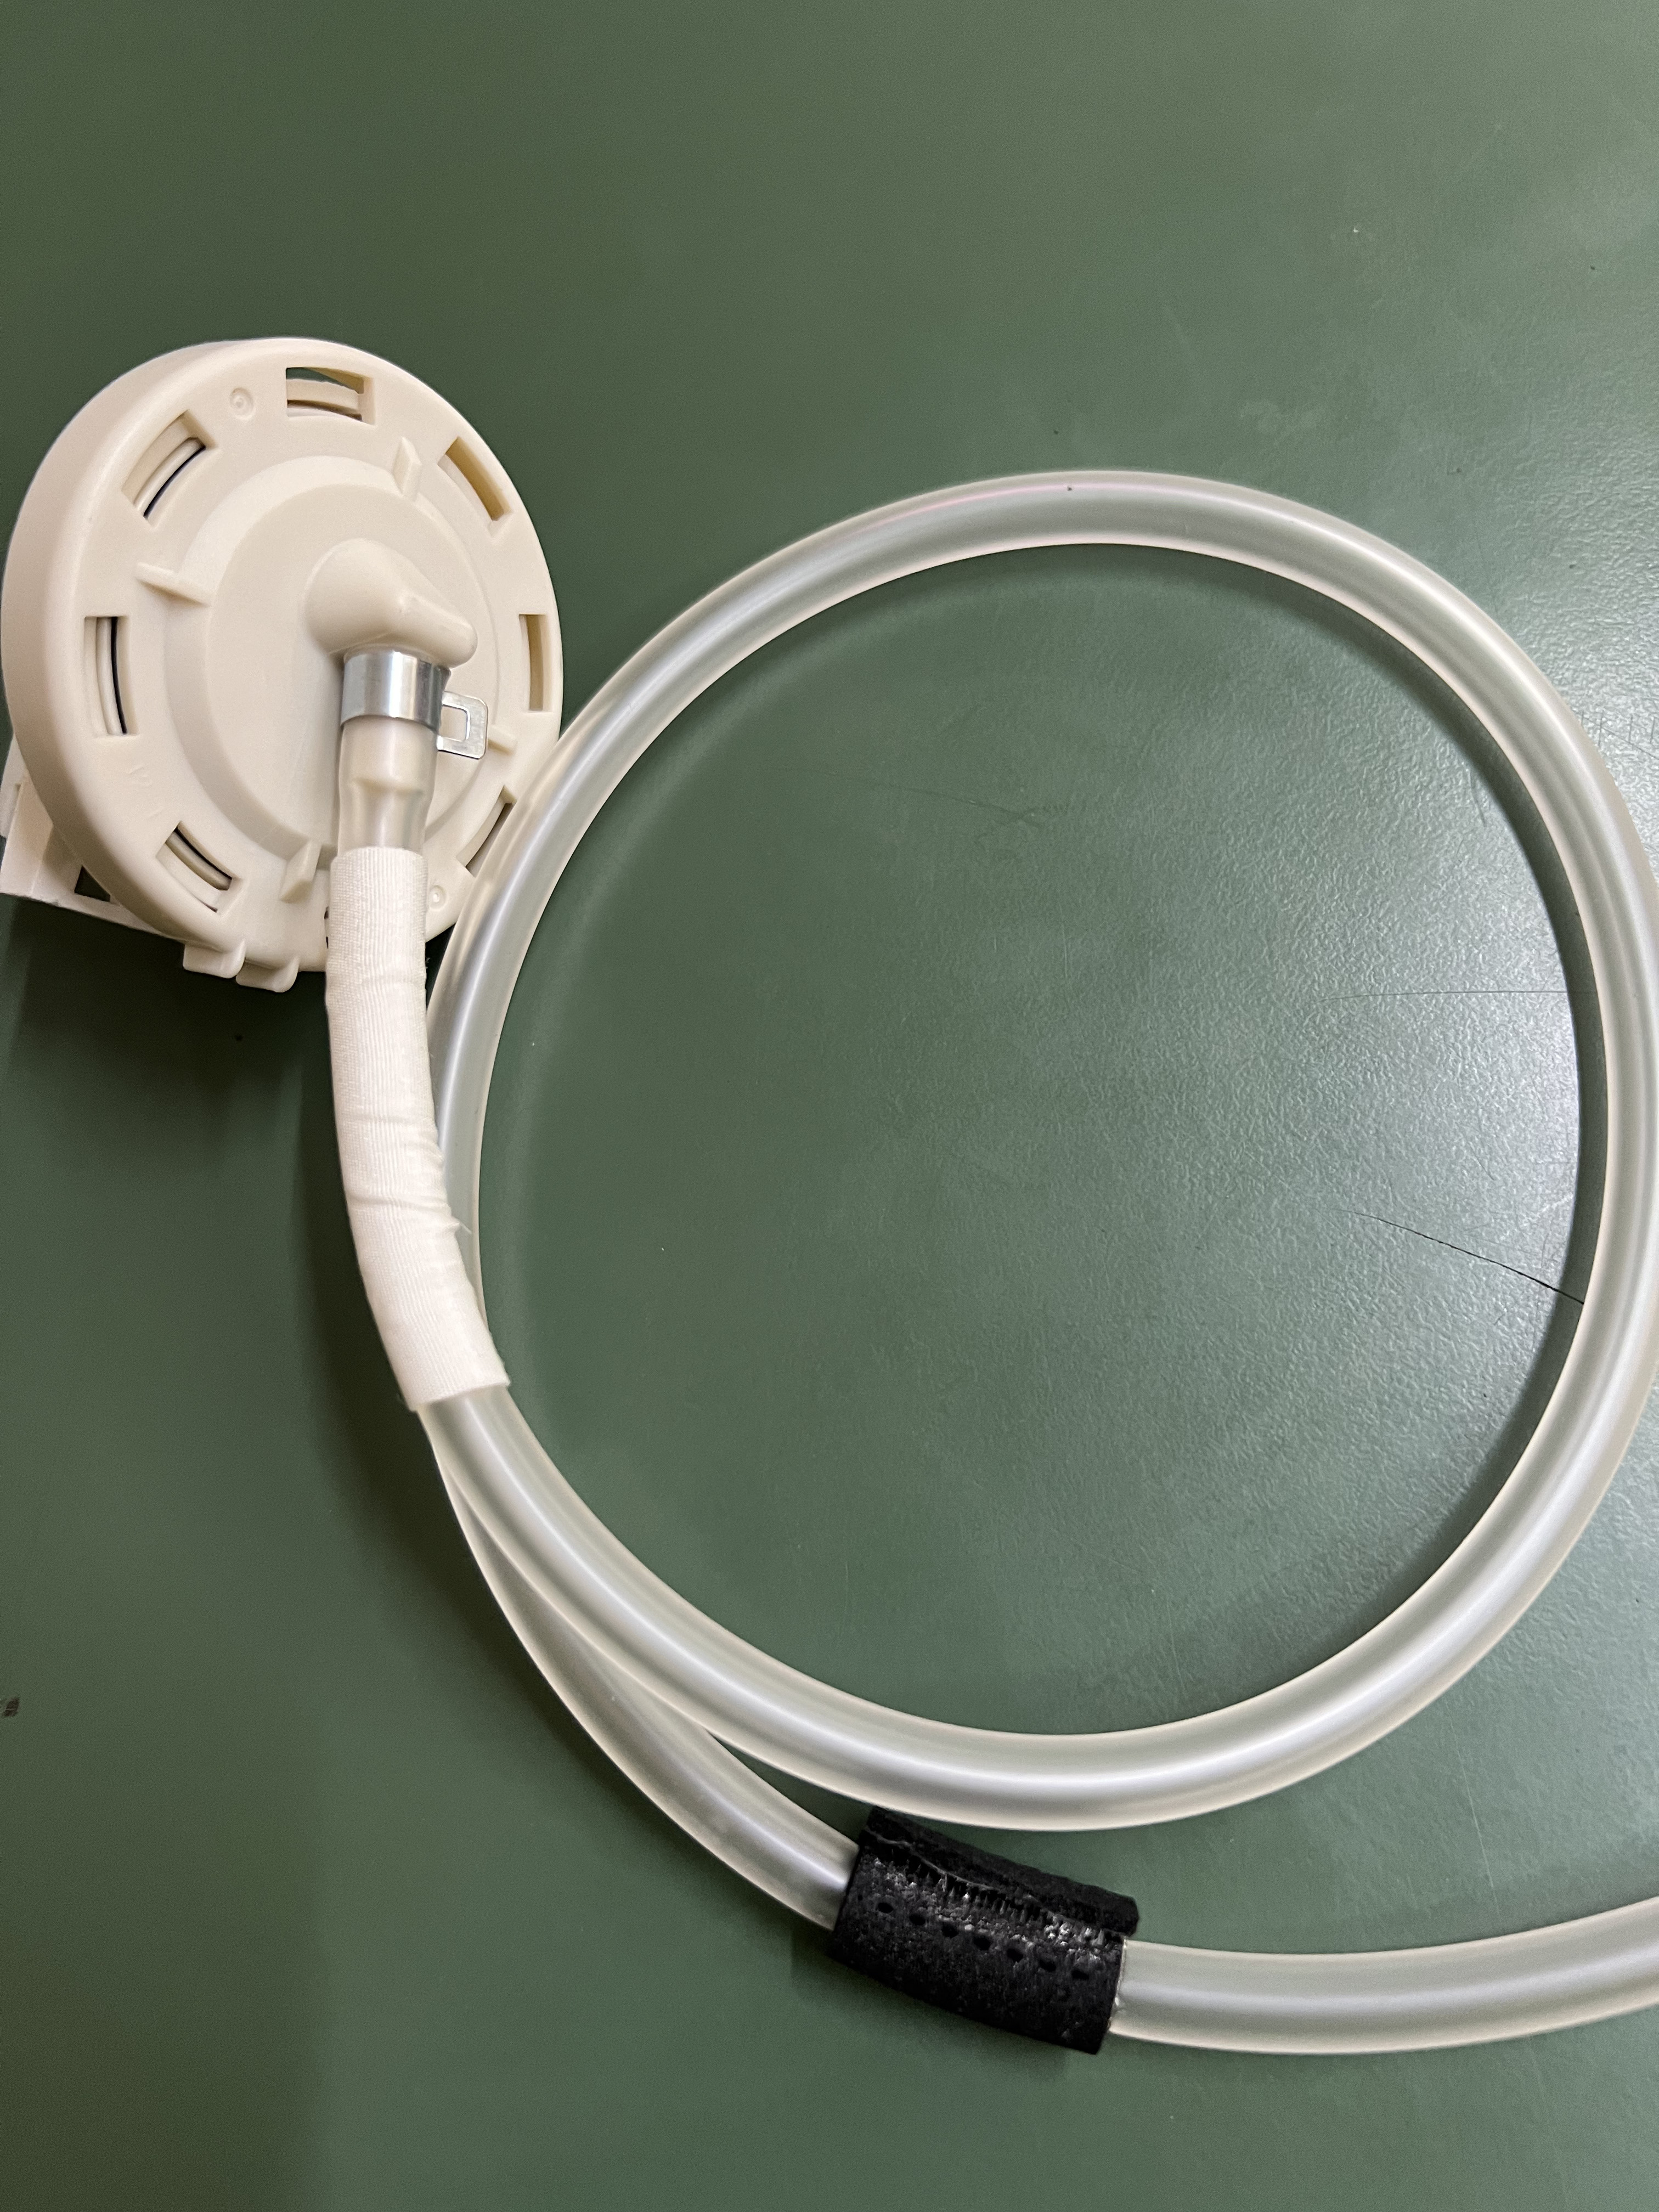pressure_sensor: (9, 334, 563, 984)
